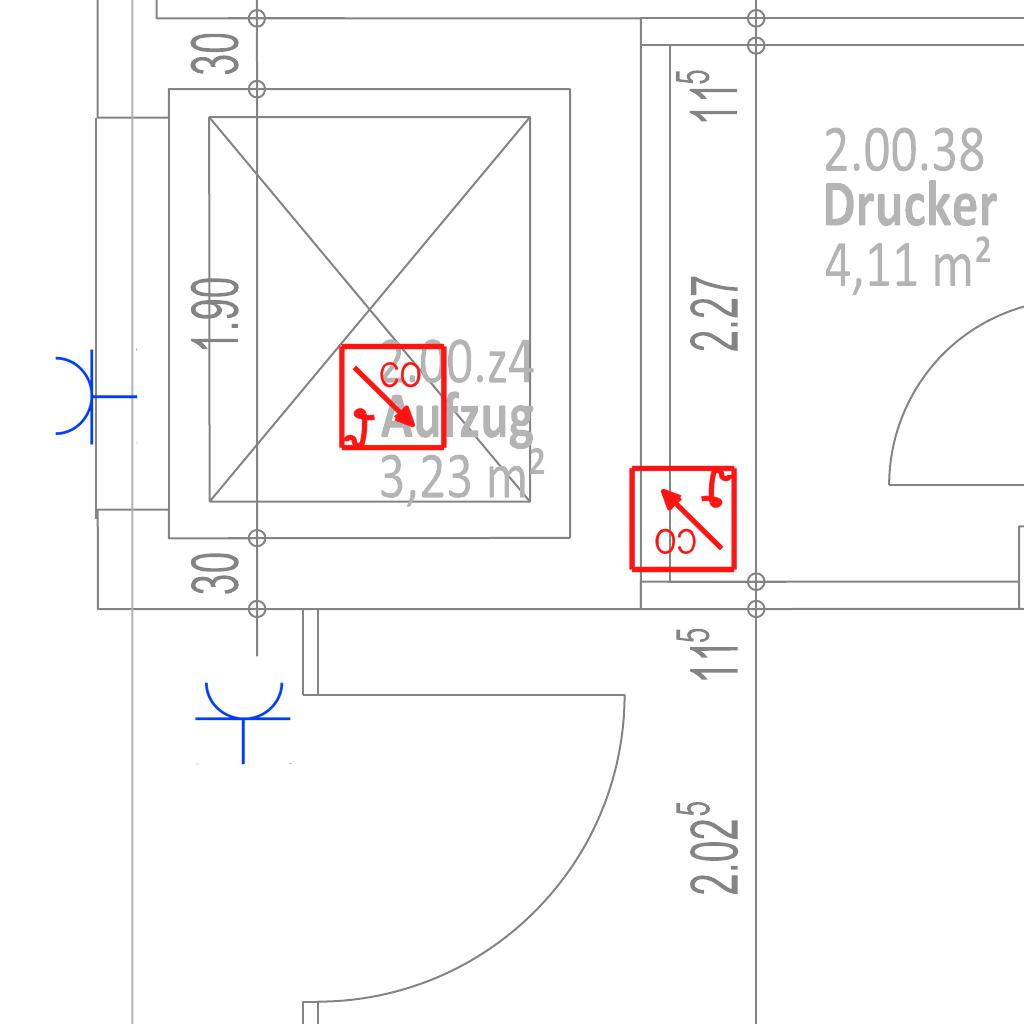ROA_Rauchmelder_optisch_mit_Signalgeber_(Sockelsirene): (337, 342, 450, 455), (626, 461, 739, 574)
Schukosteckdose_einfach: (51, 346, 138, 446), (194, 678, 294, 765)
